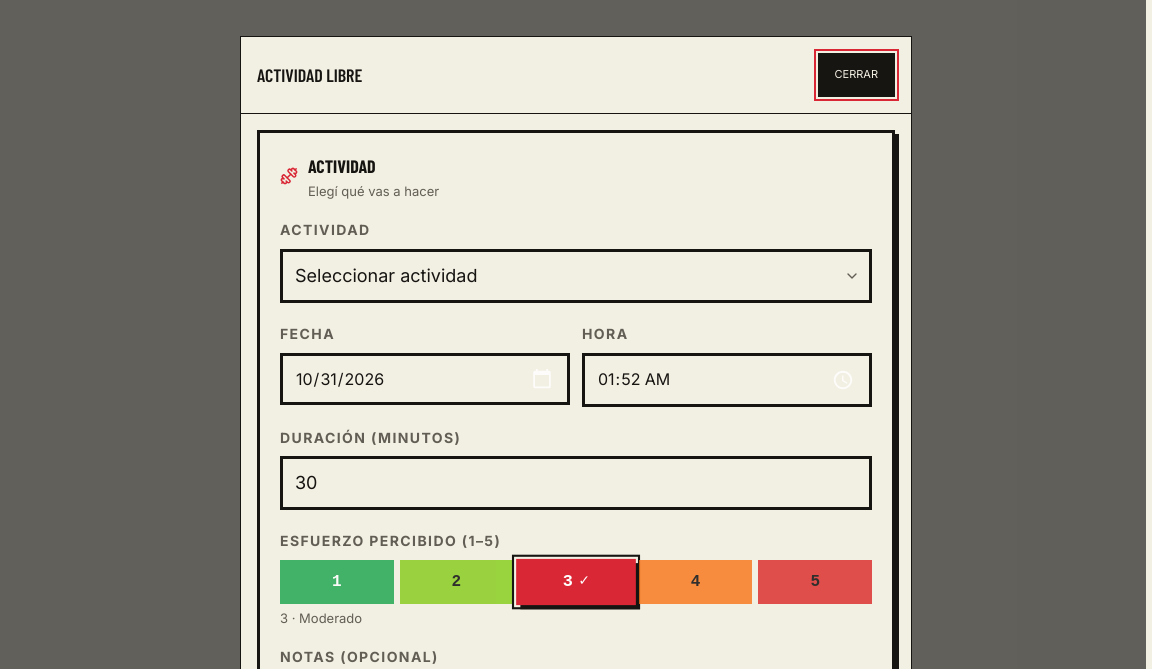
Test: ActivityWorkspace — distancia por actividad › cinta muestra pendiente y bici fija muestra vatios
The width and height of the screenshot is (1152, 669).
Select "Cinta de correr" in the dropdown labelled "Actividad": (576, 276) left=280, top=249, right=872, bottom=303
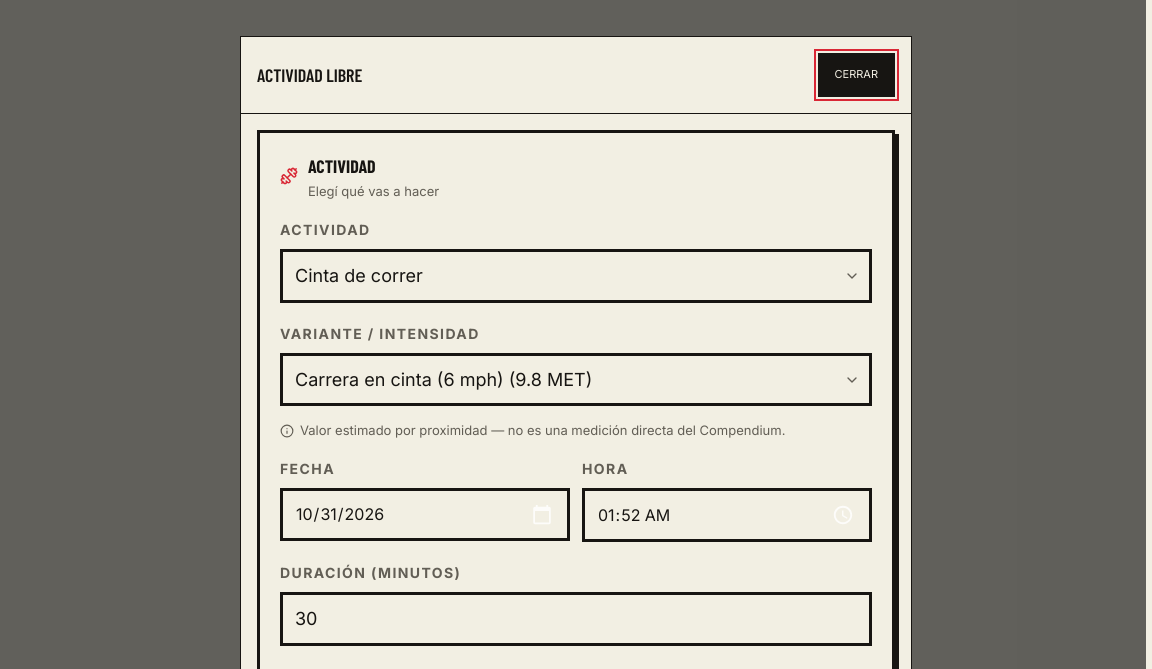
Select "Bicicleta fija" in the dropdown labelled "Actividad": (576, 276) left=280, top=249, right=872, bottom=303
(page scrolled)
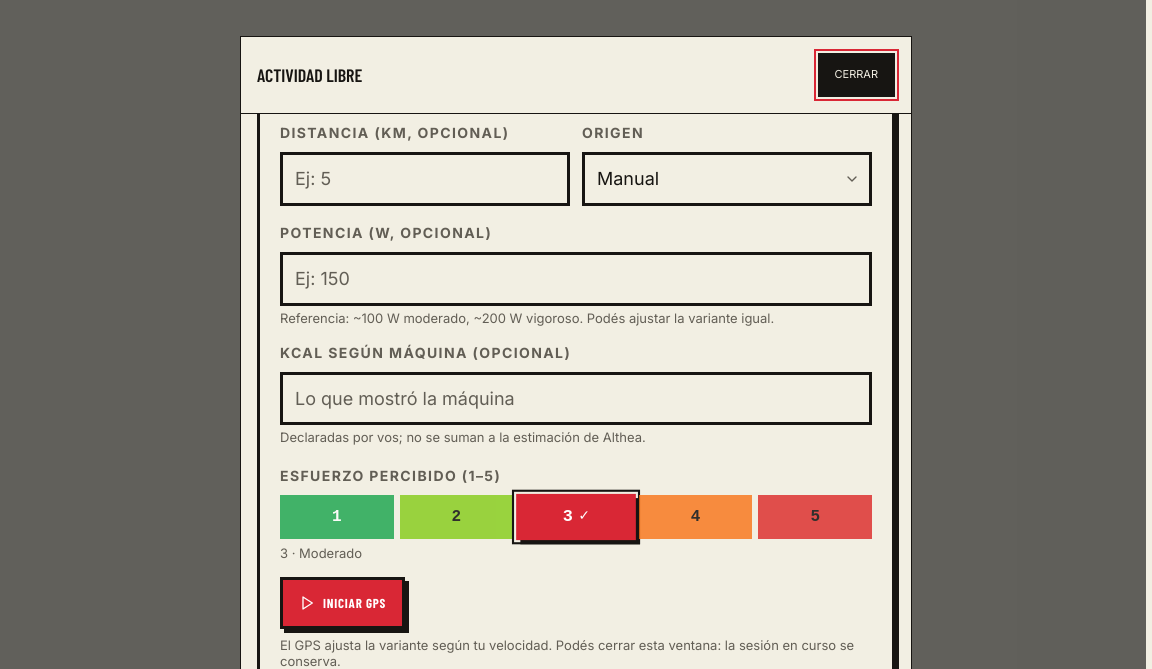
expect the number field labelled "Potencia (W, opcional)" is shown: met, box left=280, top=252, right=872, bottom=306
expect the number field labelled "Kcal según máquina (opcional)" is shown: met, box left=280, top=372, right=872, bottom=426
